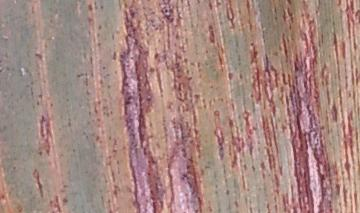tarspot: (163, 7, 169, 14), (249, 40, 255, 47)
